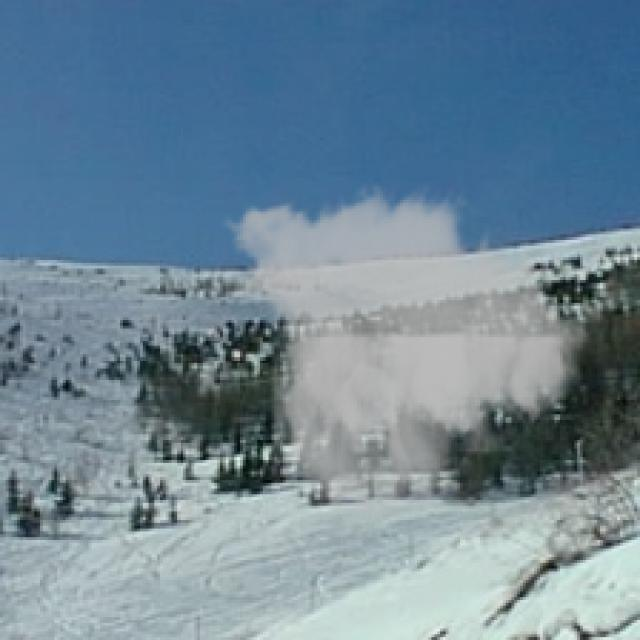smoke: (214, 180, 600, 534)
